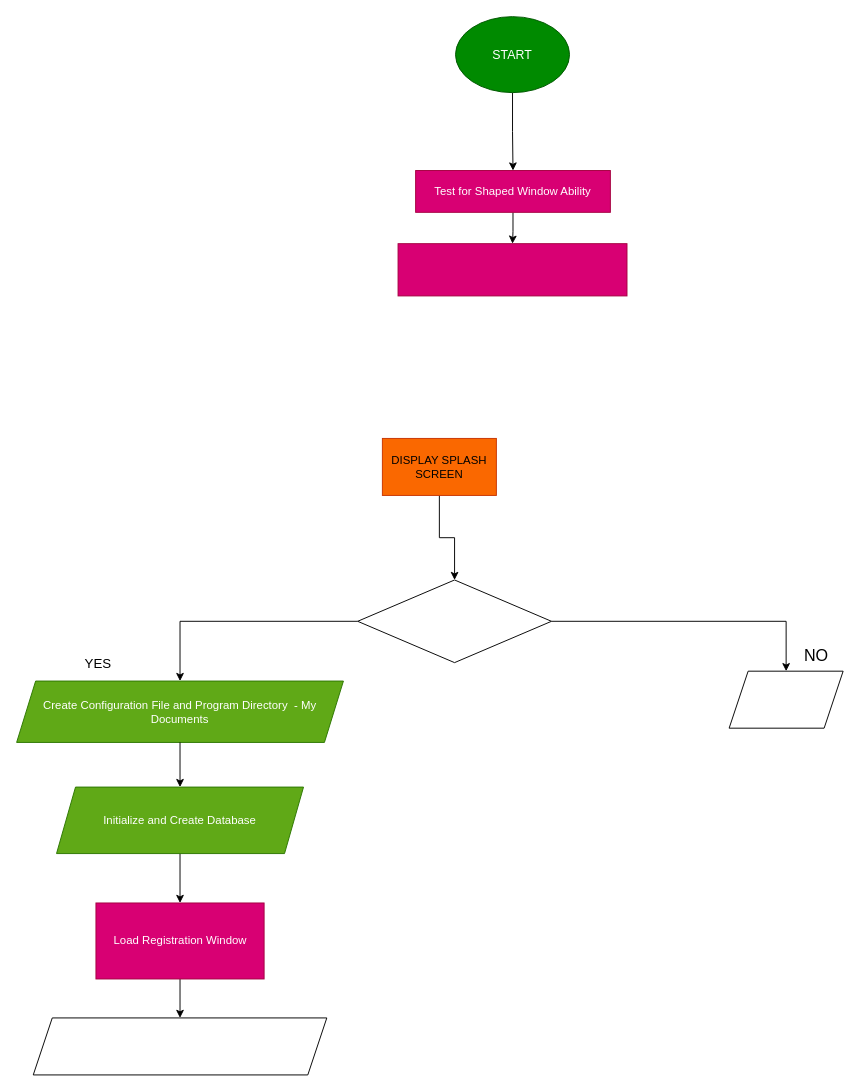
The diagram is 862 pixels wide and 1092 high, and some of its shapes have lost their labels. The centre of each missing label's shape, as x and y in pixels:
"Is First Start ?" belongs at (x=454, y=621).
"Prompt Enter Correct Registration Details" belongs at (x=179, y=1046).
"Test for Window Translucency" belongs at (x=512, y=269).
